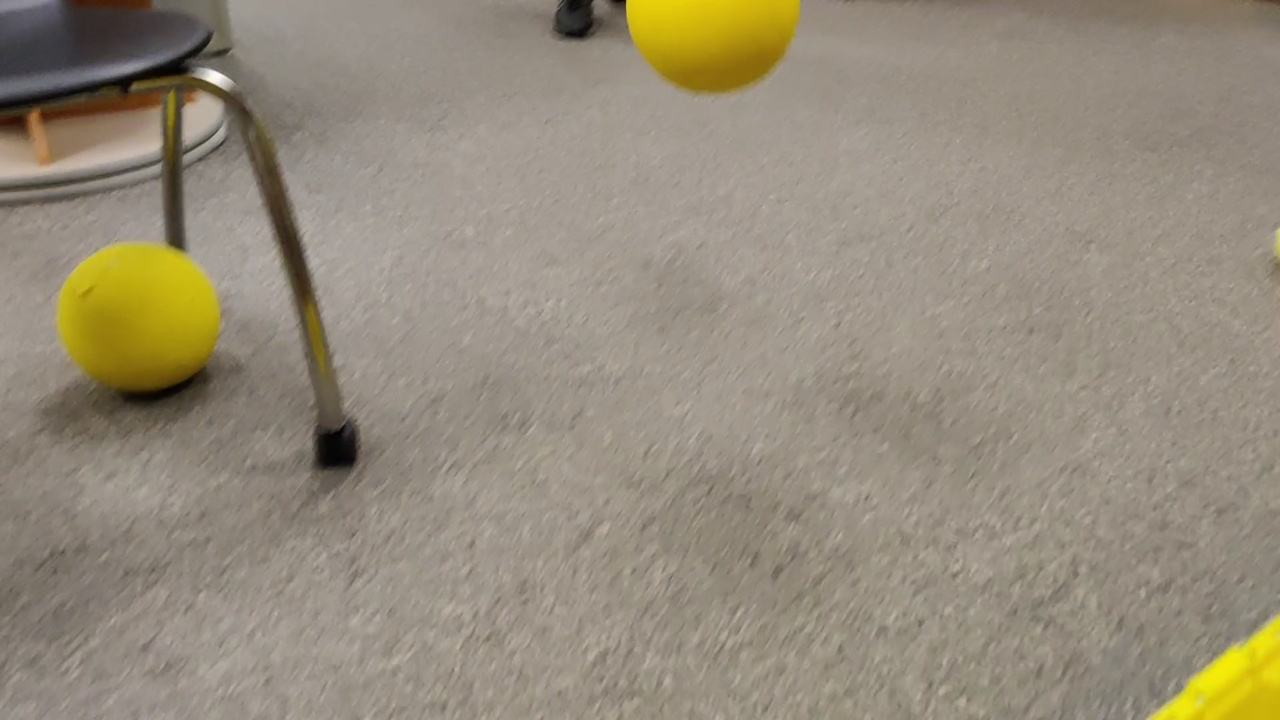Ball: (54, 240, 219, 392), (624, 1, 801, 94)
